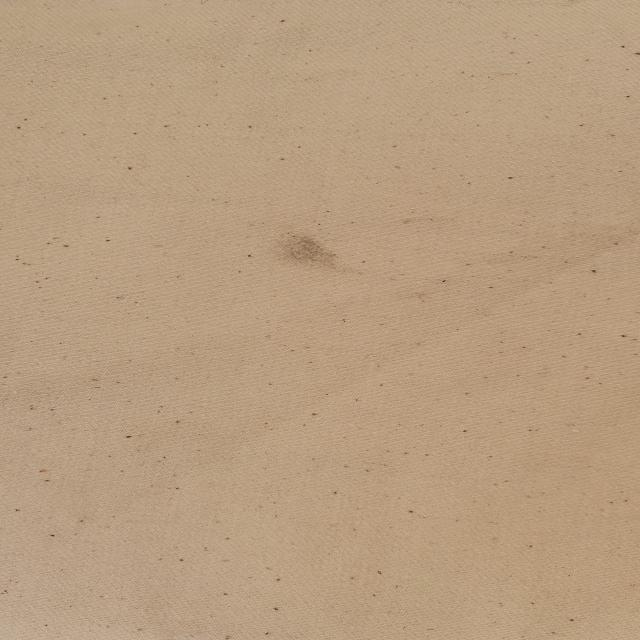taaaches: (256, 228, 352, 274)
